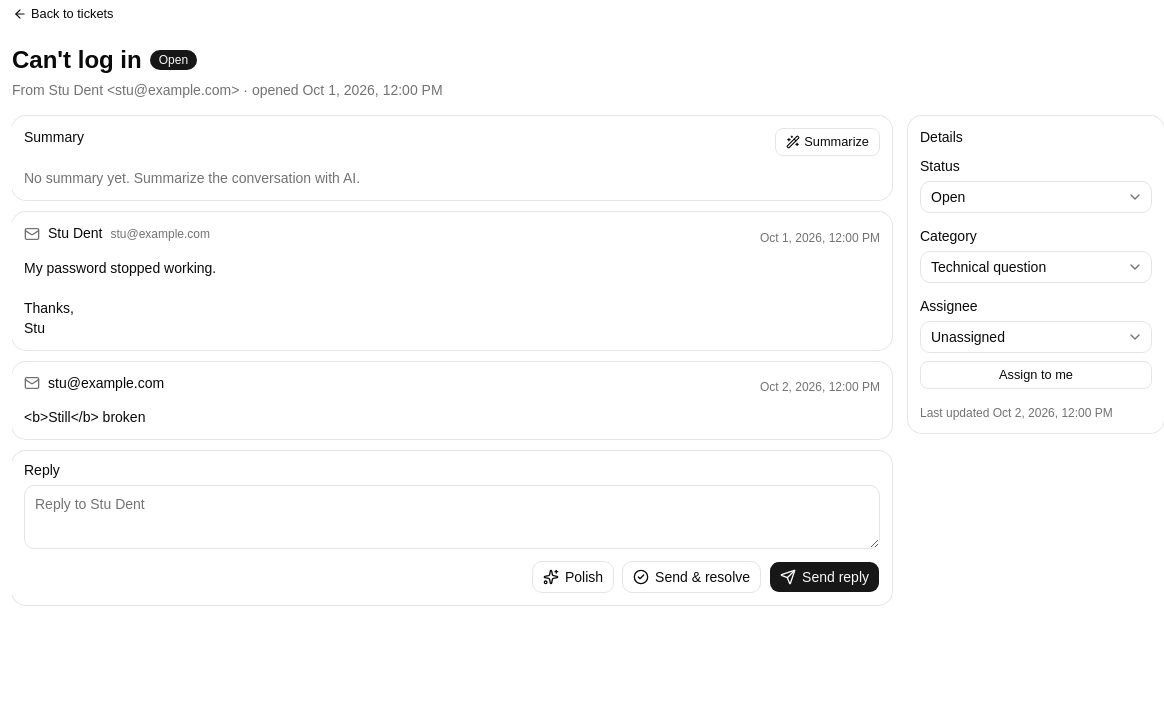
Test case: TicketDetailPage › changes the status
Click the dropdown named "Status" at (1036, 197), box [920, 181, 1152, 213]
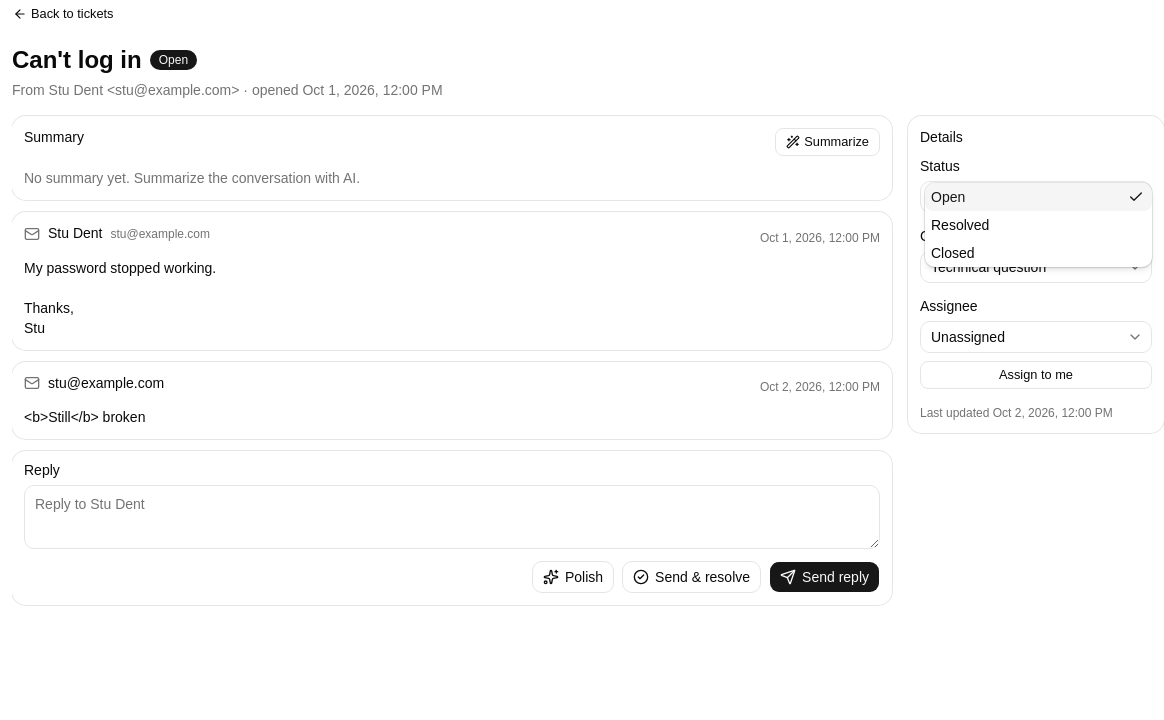
Click the option "Resolved" at (960, 225), box [931, 217, 989, 233]
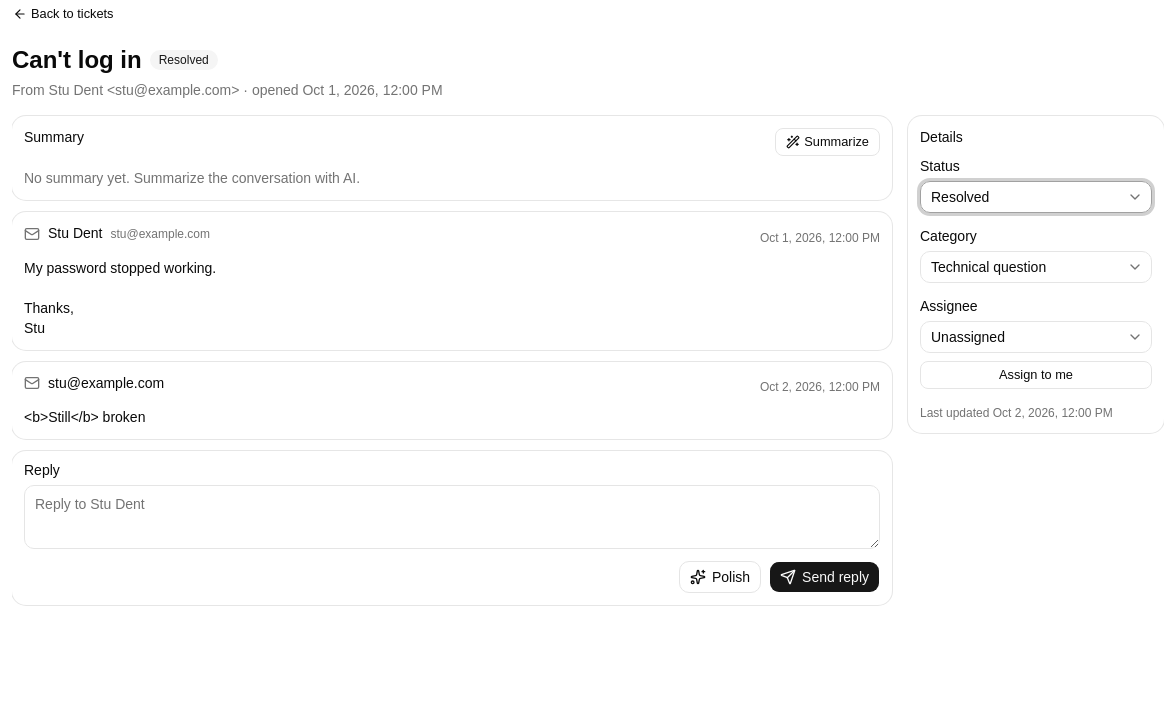
Now the dropdown named "Status" reads "Resolved", box [920, 181, 1152, 213]
